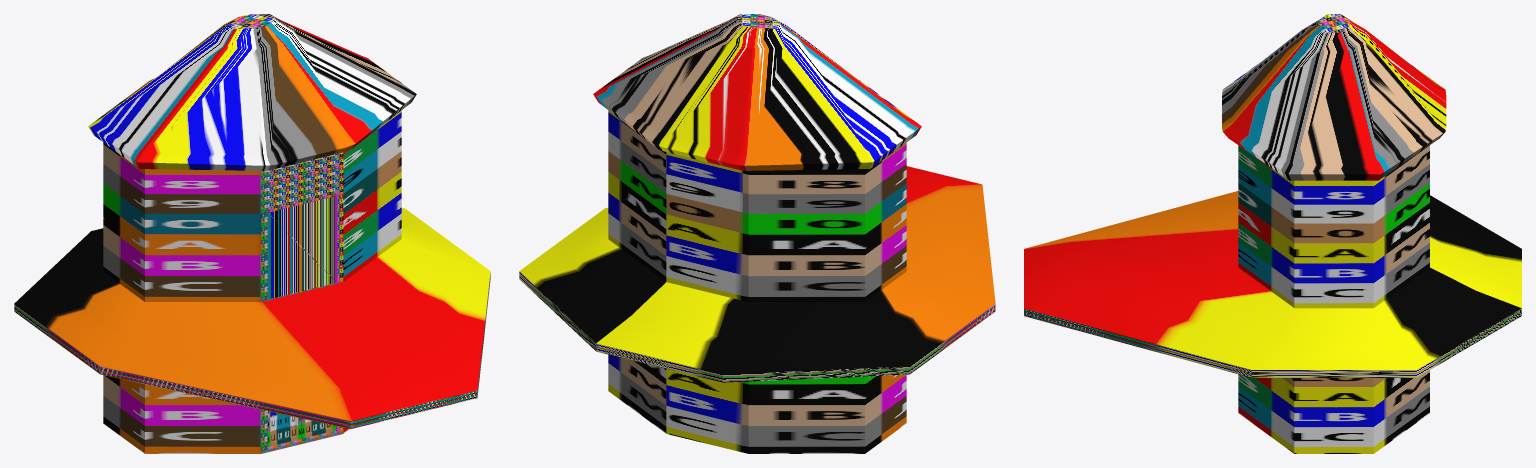
Rendered from sakaba_test2.fbx.
The picture shows the model from 3 angles, left to right: view 1: azimuth 30°, elevation 25°; view 2: azimuth 150°, elevation 25°; view 3: azimuth 270°, elevation 25°; orthographic projection. The views are drawn at different scales.
Visible parts, largest first — view 1: polySurface5; view 2: polySurface5; view 3: polySurface5.
Boxes of the visible parts, x1=… form: polySurface5: x1=14, y1=14, x2=490, y2=453; polySurface5: x1=519, y1=14, x2=995, y2=453; polySurface5: x1=1024, y1=14, x2=1521, y2=453.
Size of the model in its own units: 745 by 704 by 858.
Materials: 1 (1 with a texture image).
